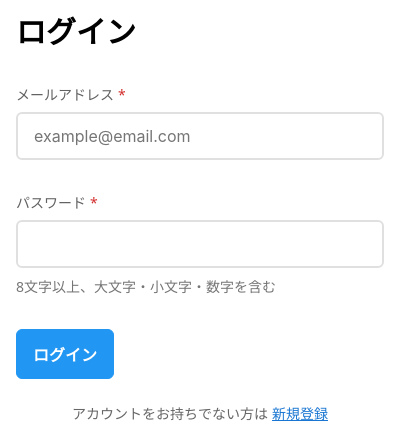
Test: LoginPage Component › should show validation error when password lacks lowercase
Type "test@example.com" into the field labelled "メールアドレス*" at {"x": 200, "y": 136}, box [16, 112, 384, 160]
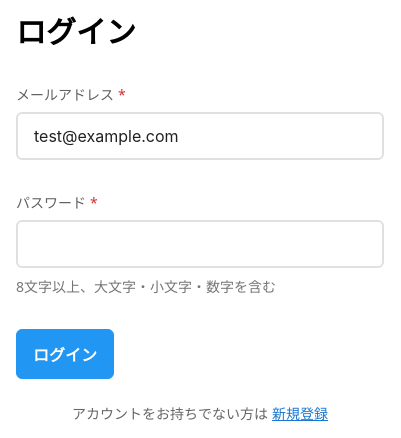
Type "PASSWORD123" into the password field labelled "パスワード*" at {"x": 200, "y": 244}, box [16, 220, 384, 268]
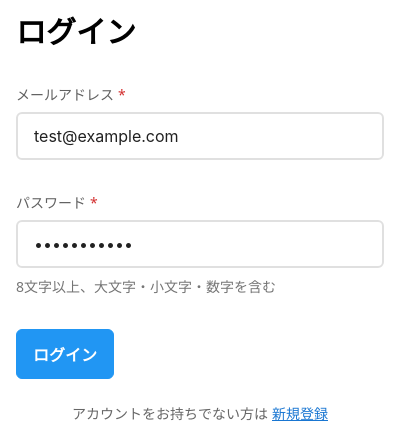
Click the button "ログイン" at {"x": 65, "y": 354}, box [16, 329, 114, 379]
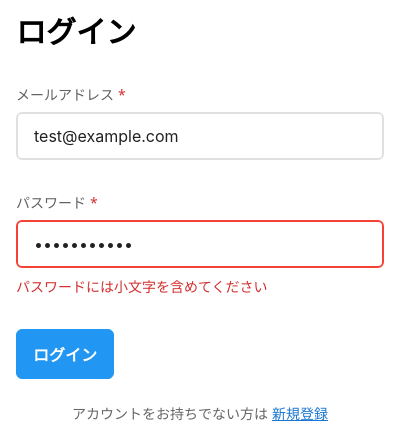
Expected: the text "パスワードには小文字を含めてください" is shown, [16, 277, 268, 296]
